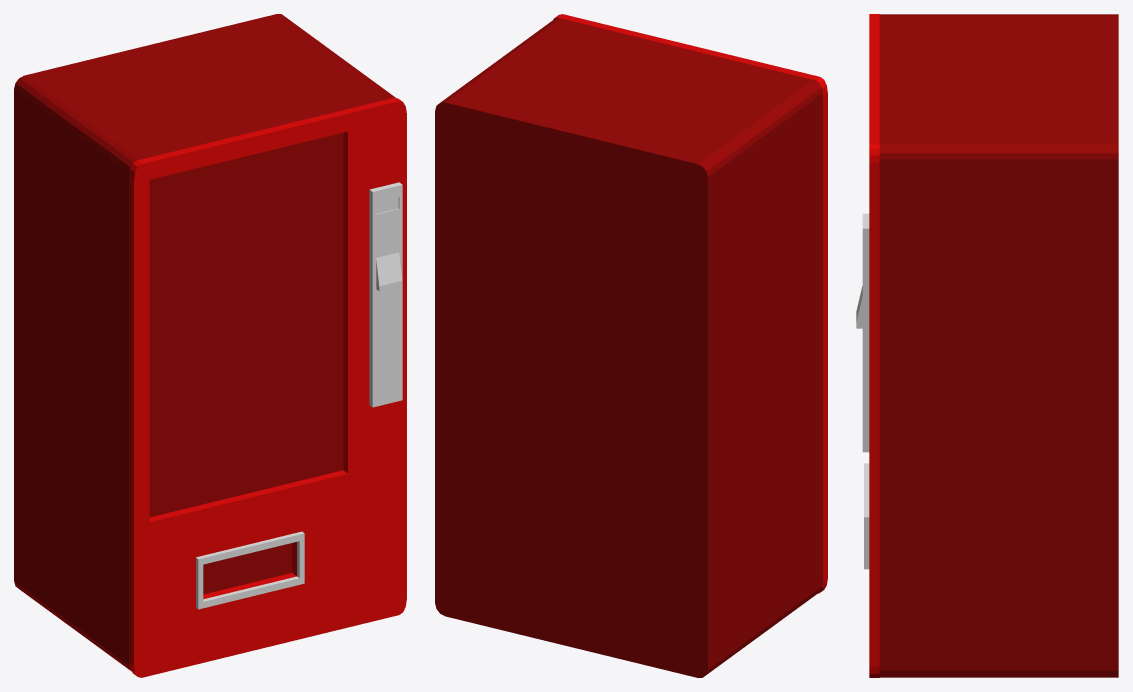
Rendered from vendingMashineNew.fbx.
3 renders of one model, left to right at view 1: azimuth 30°, elevation 25°; view 2: azimuth 150°, elevation 25°; view 3: azimuth 270°, elevation 25°, orthographic. The views are drawn at different scales.
Parts seen in each view (by area): view 1: Cube.002, Cube.001, Cube; view 2: Cube.002, Cube.001; view 3: Cube.002, Cube.001, Cube.
Boxes of the visible parts, x1,y1,x2,y2 form: Cube.002: (14,14,395,671); Cube.001: (129,97,406,677); Cube: (196,182,402,609); Cube.002: (435,18,822,677); Cube.001: (553,14,827,593); Cube.002: (879,14,1118,677); Cube.001: (869,14,879,677); Cube: (856,213,869,569).
Size of the model in its own units: 10392 by 18709 by 8341.
